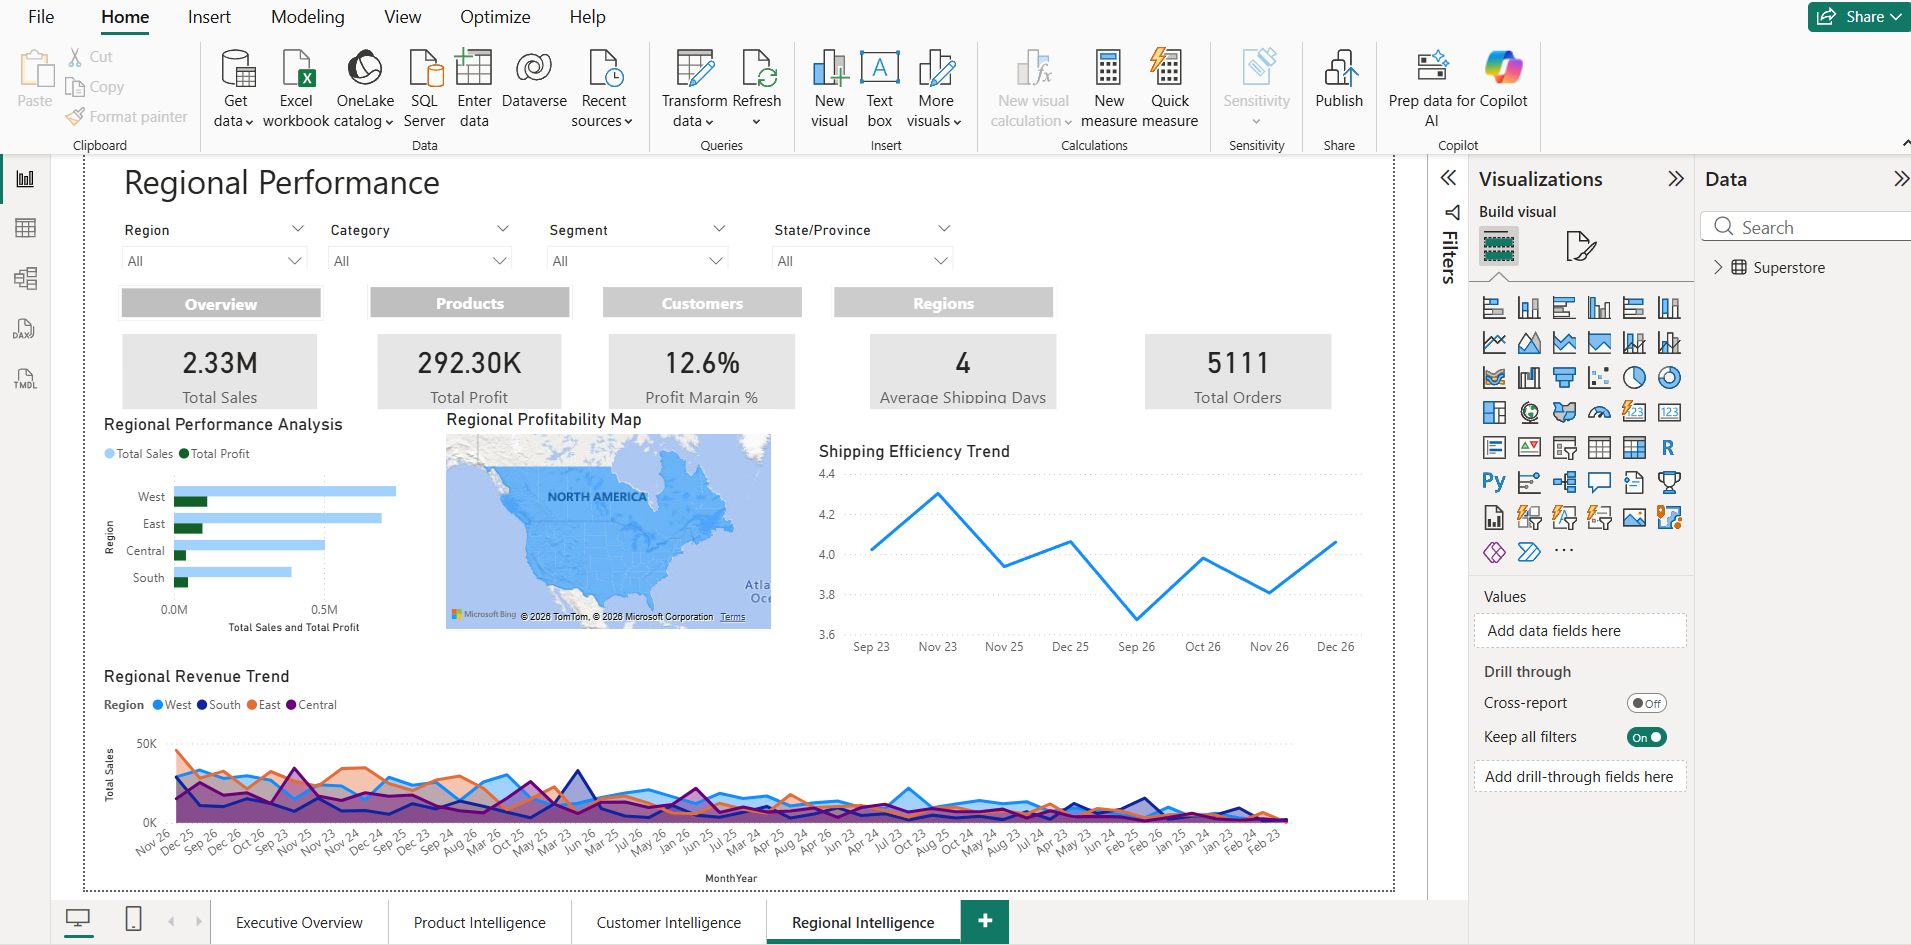

This screenshot's page, from the dashboard's own definition file:
{"tool":"powerbi","page":{"name":"Regional Intelligence","canvas":[1280,720],"ordinal":3},"visuals":[{"type":"card","fields":{"Values":["Superstore.Total Profit"]},"box":[286.1,176.1,179.8,73.4],"z":0},{"type":"card","fields":{"Values":["Superstore.Profit Margin %"]},"box":[512.4,176.1,182.2,73.4],"z":1000},{"type":"card","fields":{"Values":["Superstore.Average Shipping Days"]},"box":[767.9,176.1,182.2,73.4],"z":2000},{"type":"card","fields":{"Values":["Superstore.Total Orders"]},"box":[1037,176.1,182.2,73.4],"z":3000},{"type":"clusteredBarChart","title":"Regional Performance Analysis","fields":{"Category":["Superstore.Region"],"Y":["Superstore.Total Sales","Superstore.Total Profit"]},"box":[13.5,254.3,327.7,220.1],"z":4000},{"type":"filledMap","title":"Regional Profitability Map","fields":{"X":["Superstore.Total Profit"],"Category":["Superstore.State/Province"]},"box":[348.5,249.5,327.7,220.1],"z":5000},{"type":"lineChart","title":"Shipping Efficiency Trend","fields":{"Category":["Superstore.MonthYear"],"Y":["Superstore.Average Shipping Days"]},"box":[712.9,280,541.7,220.1],"z":6000},{"type":"areaChart","title":"Regional Revenue Trend","fields":{"Category":["Superstore.MonthYear"],"Series":["Superstore.Region"],"Y":["Superstore.Total Sales"]},"box":[13.5,500.1,1176.4,220.1],"z":7000},{"type":"textbox","box":[33,0,1186.1,61.1],"z":8000},{"type":"slicer","fields":{"Values":["Superstore.Region"]},"box":[25.7,61.1,201.8,51.4],"z":9000},{"type":"slicer","fields":{"Values":["Superstore.Category"]},"box":[227.4,61.1,200.5,51.4],"z":10000},{"type":"slicer","fields":{"Values":["Superstore.Segment"]},"box":[441.4,61.1,198.1,51.4],"z":11000},{"type":"slicer","fields":{"Values":["Superstore.State/Province"]},"box":[661.6,61.1,198.1,51.4],"z":13000},{"type":"card","fields":{"Values":["Superstore.Total Sales"]},"box":[36.7,176.1,190.8,73.4],"z":14000},{"type":"actionButton","box":[33,128.4,200.5,34.2],"z":15000},{"type":"actionButton","box":[276.4,127.2,200.5,35.5],"z":16000},{"type":"actionButton","box":[503.8,127.2,200.5,35.5],"z":17000},{"type":"actionButton","box":[730,127.2,220.1,35.5],"z":18000}]}

Visuals, with their boxes on the page's 1280x720 design canvas (x1, y1, x2, y2). These are canvas units, not pixel positions in the 1911x945 screenshot, which may show the page scaled, cropped or inside an application window:
card - Superstore.Total Profit: region(286, 176, 466, 250)
card - Superstore.Profit Margin %: region(512, 176, 695, 250)
card - Superstore.Average Shipping Days: region(768, 176, 950, 250)
card - Superstore.Total Orders: region(1037, 176, 1219, 250)
"Regional Performance Analysis" clusteredBarChart: region(14, 254, 341, 474)
"Regional Profitability Map" filledMap: region(348, 250, 676, 470)
"Shipping Efficiency Trend" lineChart: region(713, 280, 1255, 500)
"Regional Revenue Trend" areaChart: region(14, 500, 1190, 720)
textbox: region(33, 0, 1219, 61)
slicer - Superstore.Region: region(26, 61, 228, 112)
slicer - Superstore.Category: region(227, 61, 428, 112)
slicer - Superstore.Segment: region(441, 61, 640, 112)
slicer - Superstore.State/Province: region(662, 61, 860, 112)
card - Superstore.Total Sales: region(37, 176, 228, 250)
actionButton: region(33, 128, 234, 163)
actionButton: region(276, 127, 477, 163)
actionButton: region(504, 127, 704, 163)
actionButton: region(730, 127, 950, 163)
